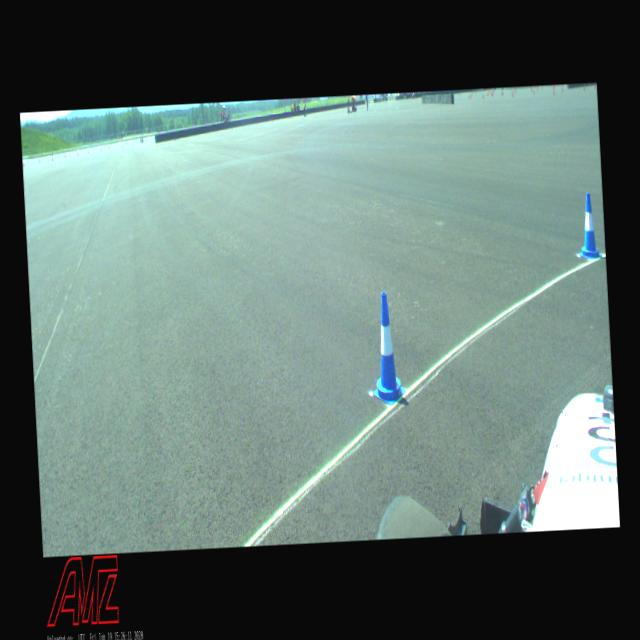blue_cone: (368, 290, 407, 406), (576, 193, 602, 260)
